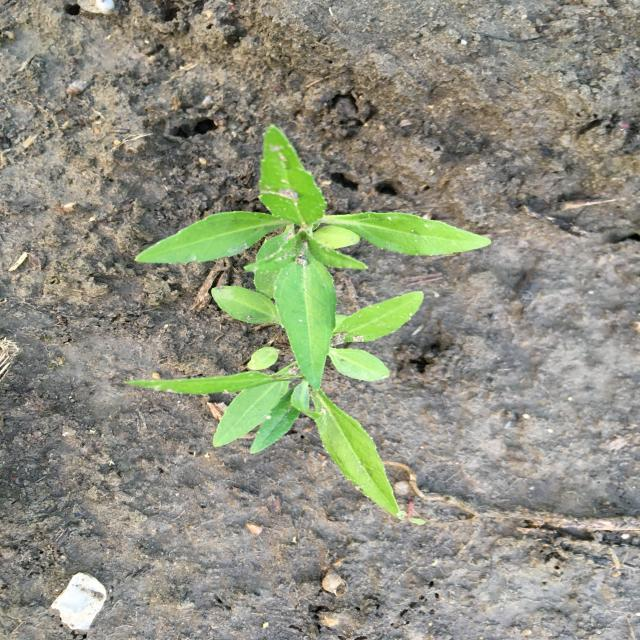Eclipta: (121, 123, 494, 393), (119, 283, 425, 518)
